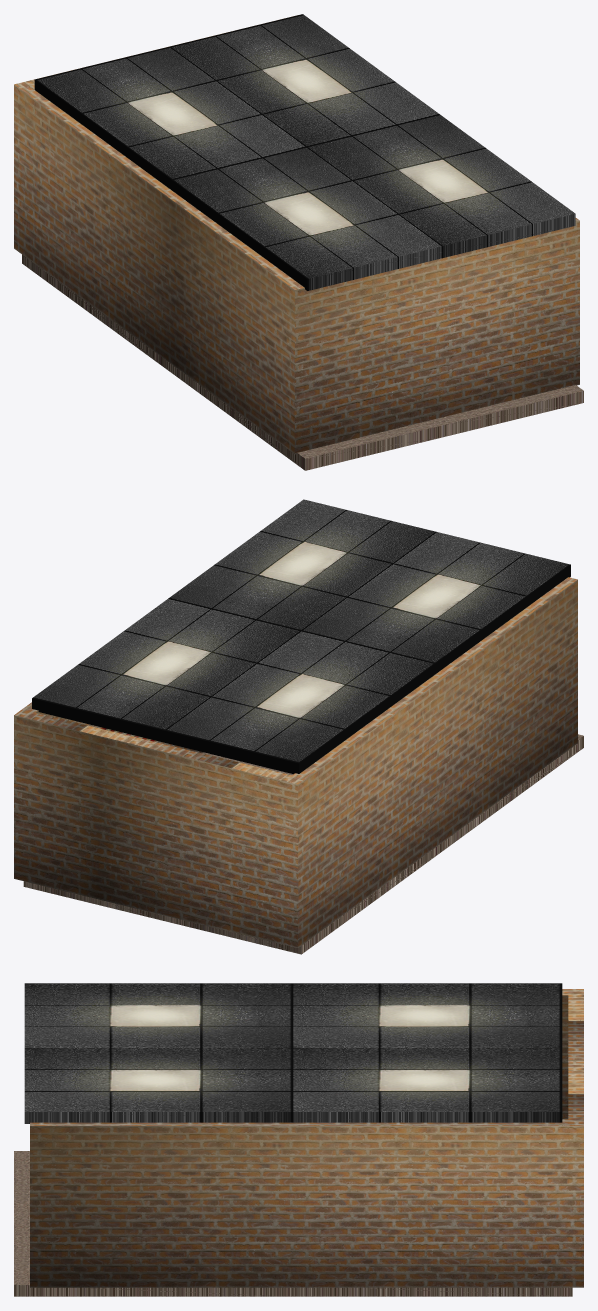
File: Studio.glb
The picture shows the model from 3 angles, top to bottom: view 1: azimuth 30°, elevation 25°; view 2: azimuth 150°, elevation 25°; view 3: azimuth 270°, elevation 25°; orthographic projection.
Visible parts, largest first — view 1: Studio; view 2: Studio; view 3: Studio.
Part boxes in pixels (box(x1,y1,x2,y2)): Studio: box(14, 14, 583, 470); Studio: box(14, 499, 583, 954); Studio: box(14, 983, 583, 1296).
Bounding box in the file's own units: 54.54 × 34.02 × 95.87.
Materials: 14 (13 with a texture image).
